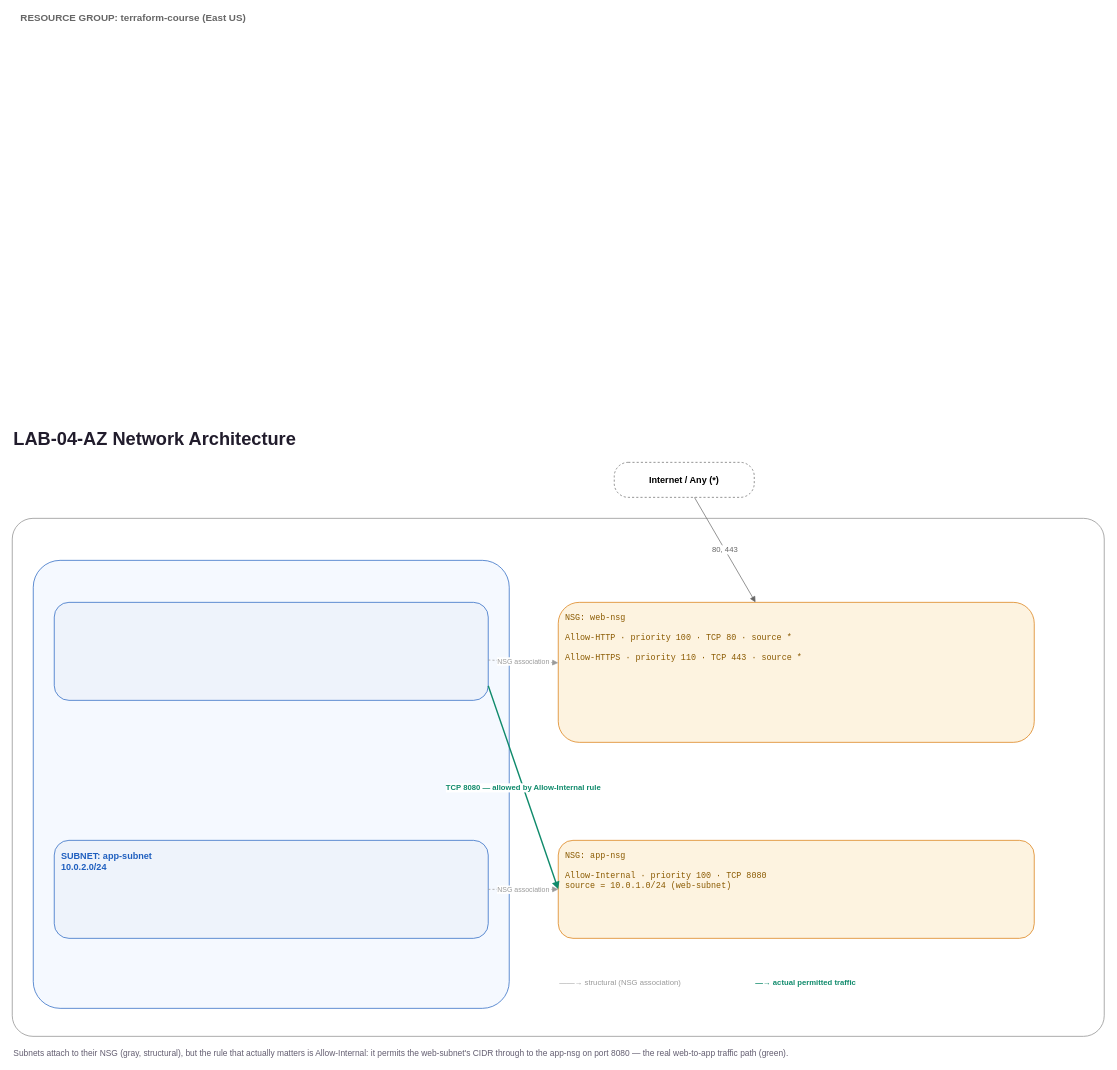
The diagram is 1117 pixels wide and 1070 high, and some of its shapes have lost their labels. Each missing label, with the box of its shape:
SUBNET: web-subnet 10.0.1.0/24: (54, 602, 488, 700)
VIRTUAL NETWORK: terraform-network · 10.0.0.0/16: (33, 560, 509, 1008)
